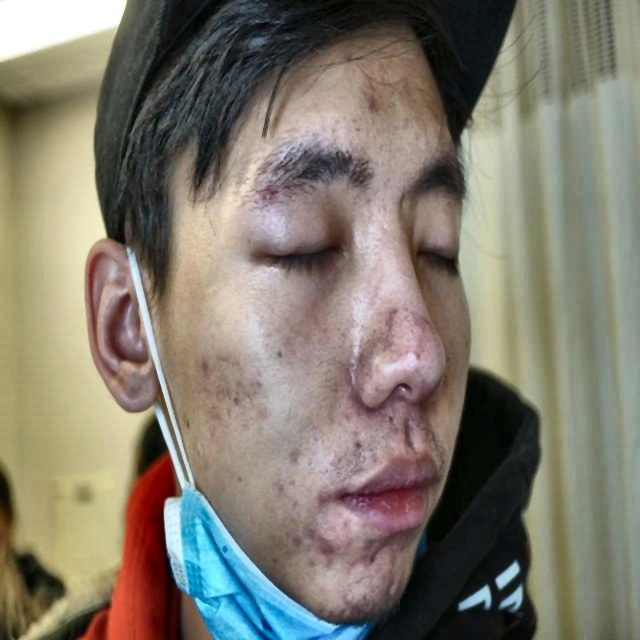pustule: (343, 589, 373, 620), (255, 174, 276, 208), (366, 84, 382, 121), (318, 526, 335, 560), (361, 542, 378, 573), (391, 76, 413, 97), (416, 314, 431, 343), (318, 478, 332, 509), (378, 562, 390, 598), (291, 442, 305, 468), (290, 526, 303, 553), (410, 344, 427, 362)
